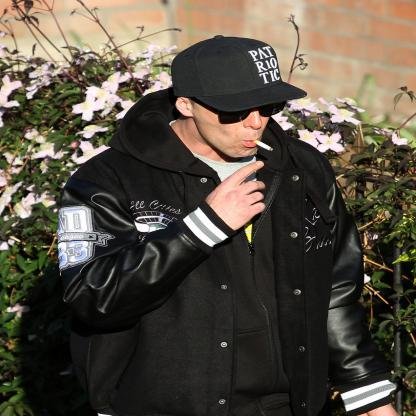smoking: (252, 138, 273, 150)
